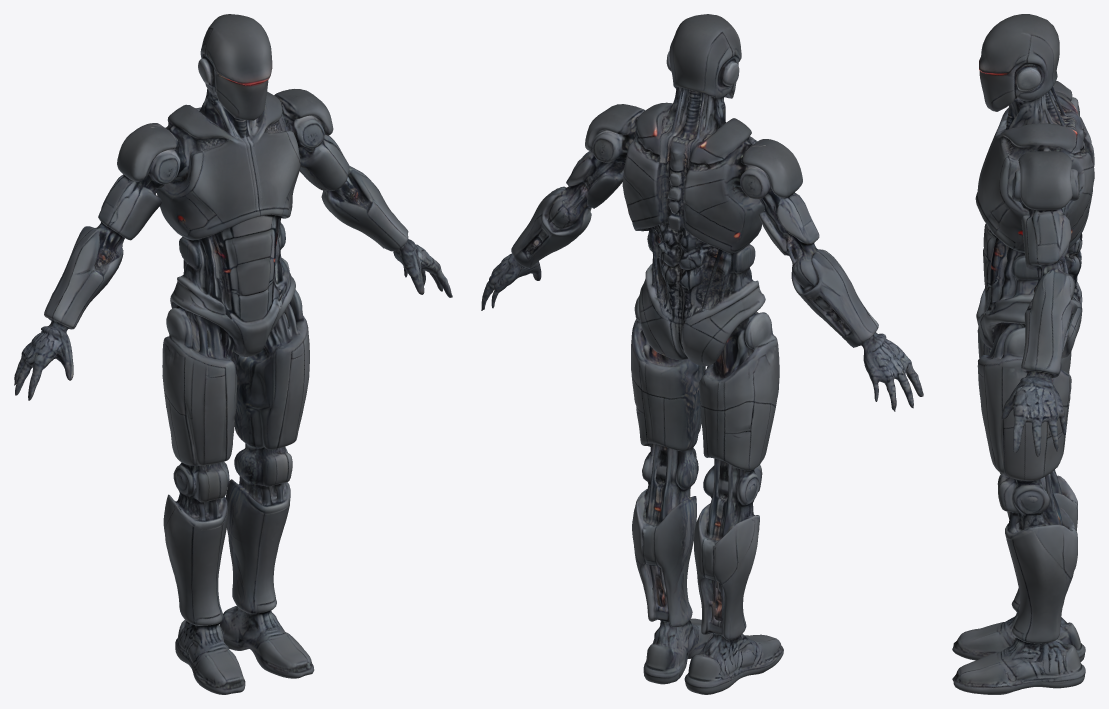
The model's file is humanoid.glb.
The picture shows the model from 3 angles, left to right: view 1: azimuth 30°, elevation 25°; view 2: azimuth 150°, elevation 25°; view 3: azimuth 270°, elevation 25°; orthographic projection.
Visible parts, largest first — view 1: model; view 2: model; view 3: model.
Part boxes in pixels (x1,y1,x2,y2): model: [14, 14, 452, 694]; model: [481, 14, 923, 694]; model: [952, 14, 1094, 694].
Size of the model in its own units: 1.32 by 1.9 by 0.3756.
Materials: 1 (1 with a texture image).
